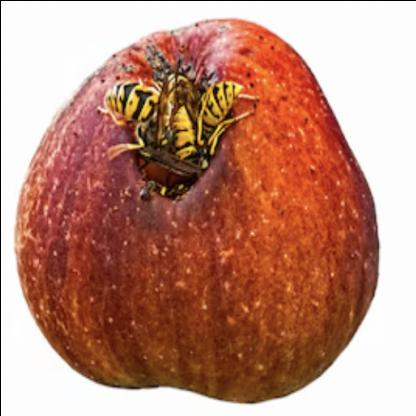Rotten Apple: (15, 19, 377, 399)
